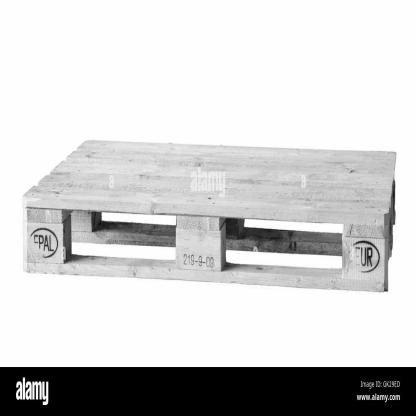BoxFace: (20, 134, 398, 296)
